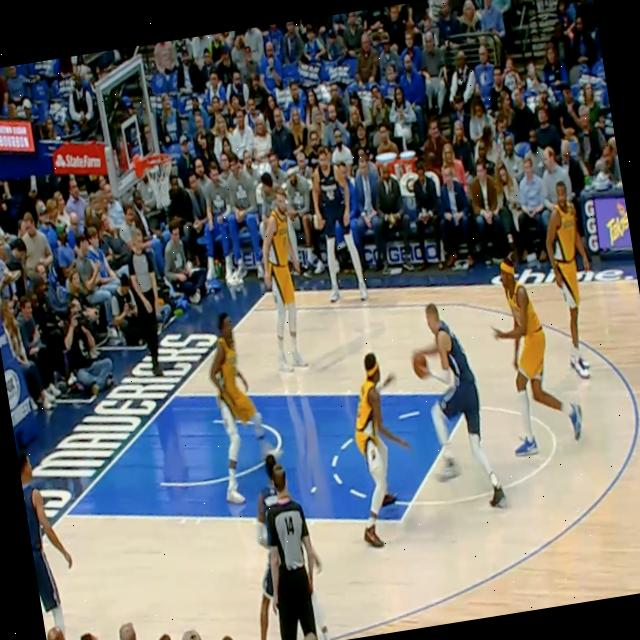no foul: (310, 281, 524, 551), (466, 185, 638, 462)
